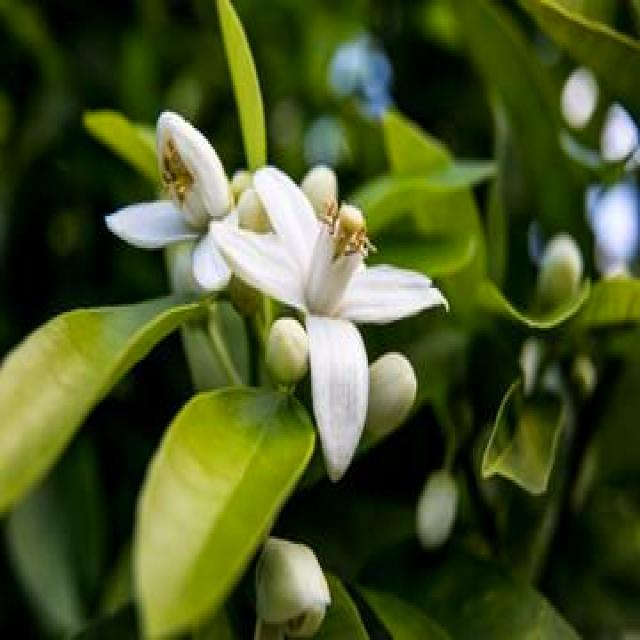Bunga: (216, 155, 454, 482), (114, 104, 249, 304), (255, 538, 332, 638), (362, 349, 418, 451), (263, 312, 309, 387), (416, 472, 455, 547), (298, 157, 338, 219)
